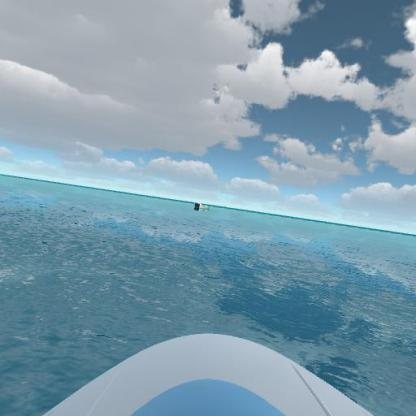usv0: (192, 200, 214, 215)
